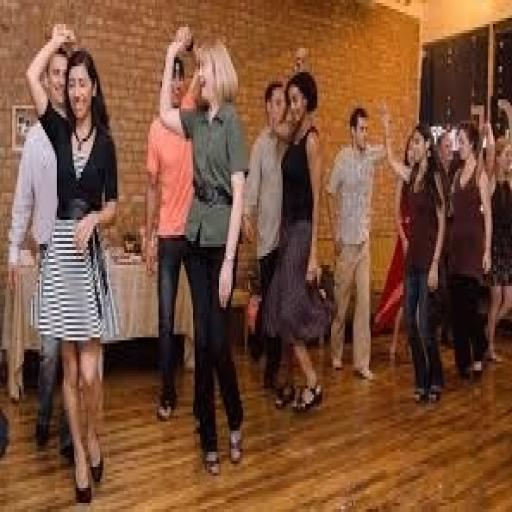dancing: (288, 83, 443, 414), (24, 21, 121, 506), (151, 35, 258, 457), (223, 65, 341, 418)
